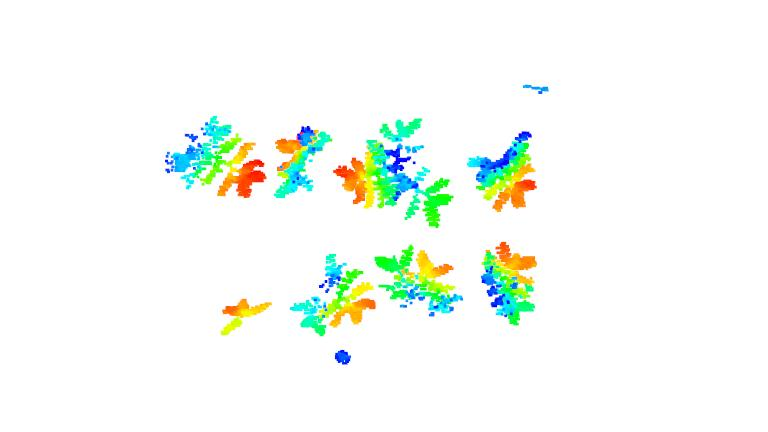chickpea: (326, 118, 453, 228), (157, 114, 268, 201), (288, 252, 374, 334), (373, 244, 464, 319), (464, 125, 537, 216), (478, 241, 539, 326), (268, 123, 327, 197), (215, 295, 273, 337)
